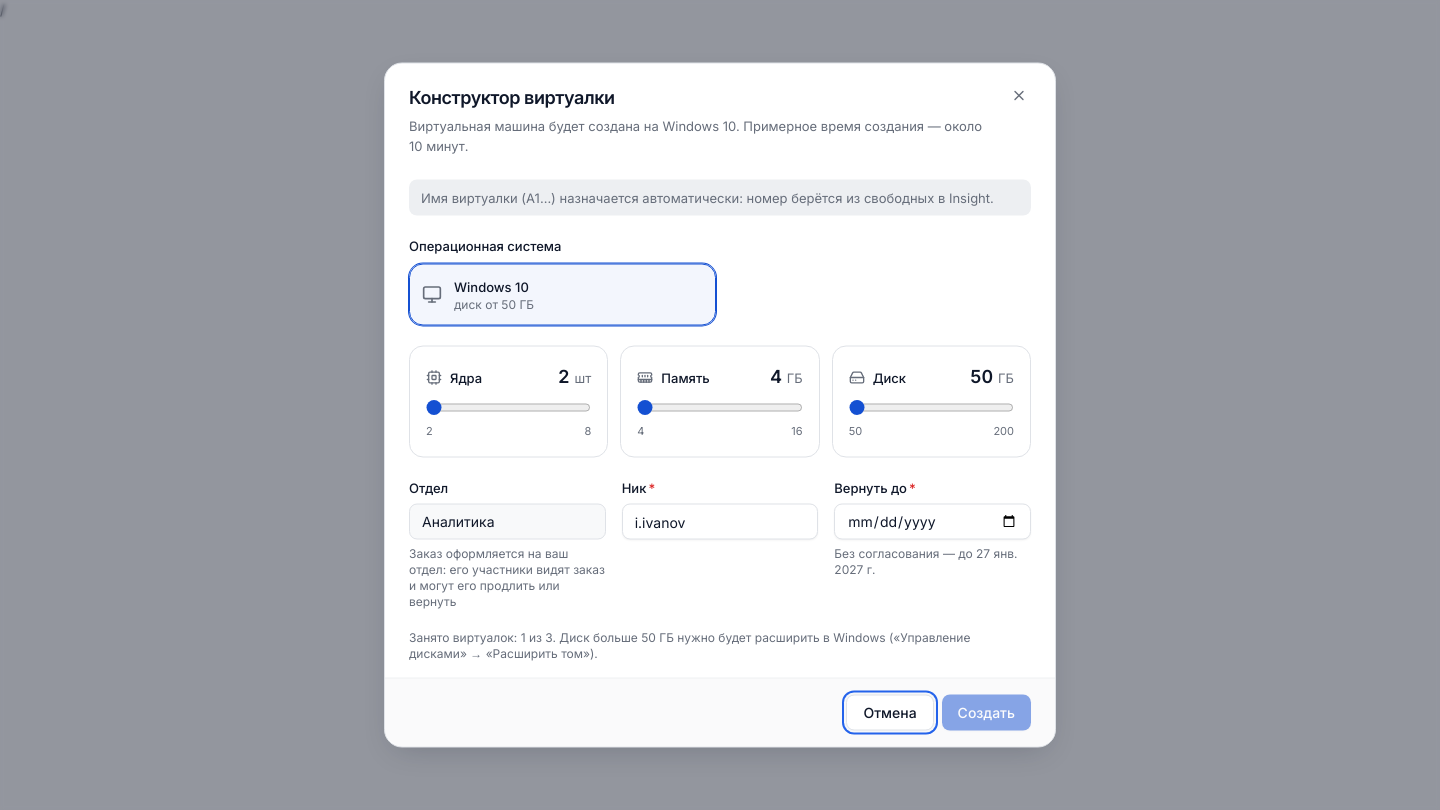
Test: VmBuilderDialog › сотрудник оформляет на свой отдел и не выбирает его
The image size is (1440, 810).
expect the field labelled "Ник*" holds "i.ivanov": met, box [622,504,818,540]
expect the text "Аналитика" is shown: met, box [409,504,606,540]
In the date field labelled "Вернуть до": (933, 522) [834,504,1031,540], type "2099-12-31"
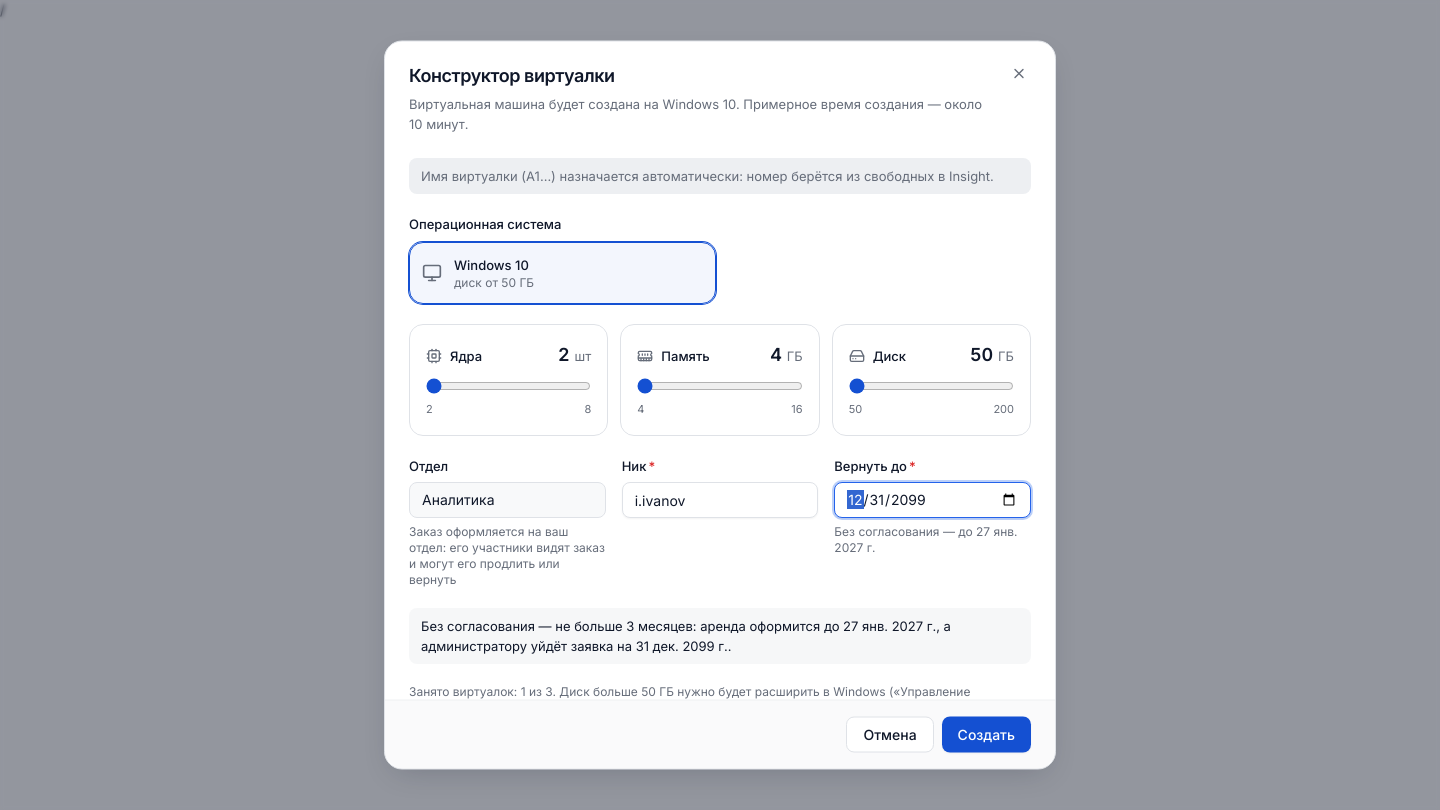
expect the button "Создать" is enabled: met, box [942,716,1031,752]
